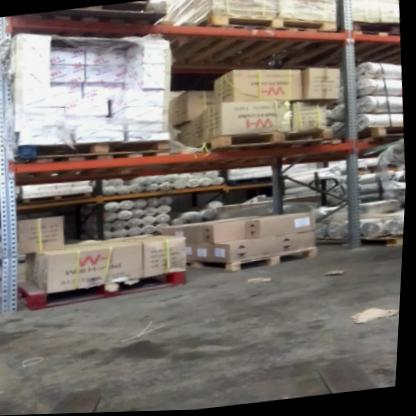vertical_damage: (2, 244, 27, 276)
